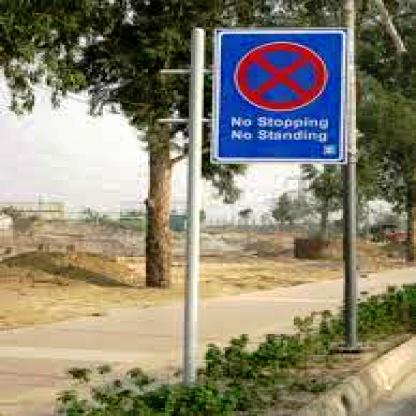No stopping: (236, 40, 328, 111)
